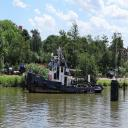tugboat: (27, 46, 105, 96)
